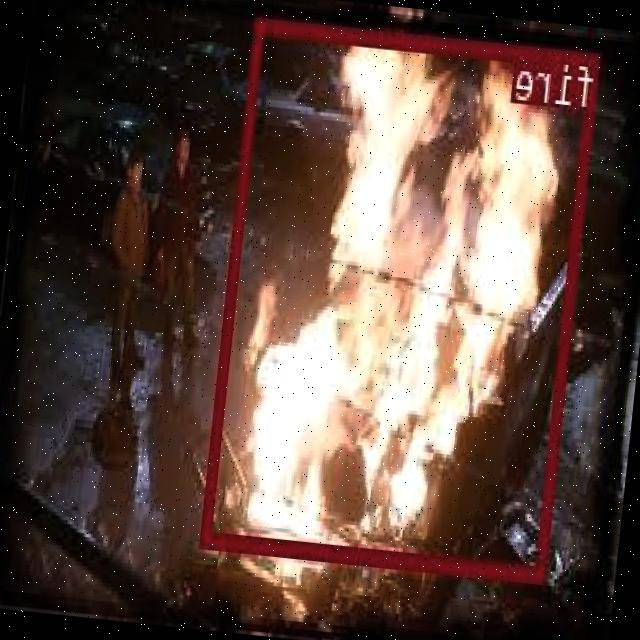fire: (202, 16, 600, 581)
